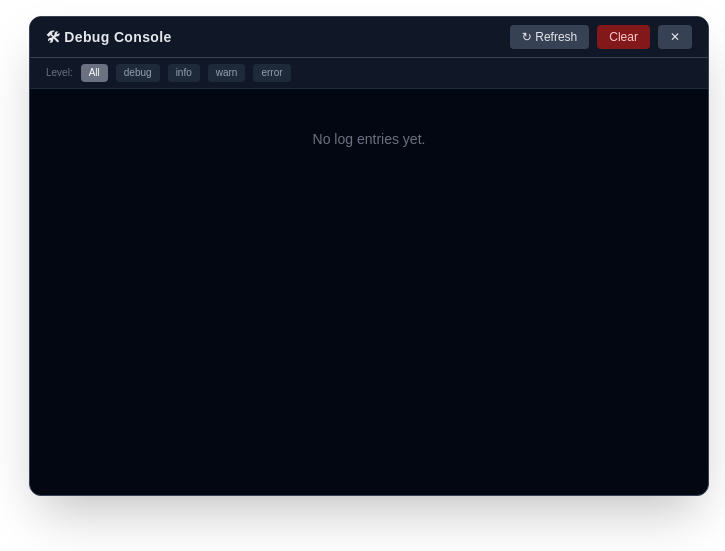
Test case: DebugPanel › re-fetches logs when Refresh is clicked
Expected: the text "No log entries yet." is shown, x1=313 y1=131 x2=425 y2=147
Click the button "↻ Refresh". click: click(550, 37)
box: x1=510 y1=25 x2=589 y2=49
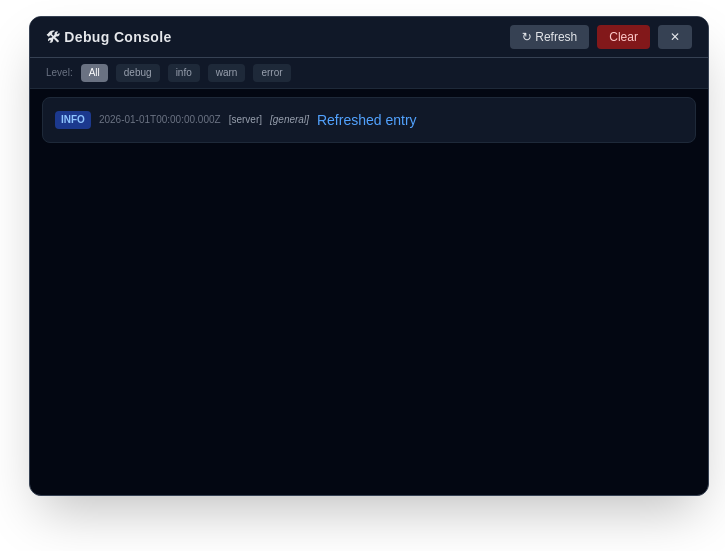
Expected: the text "Refreshed entry" is shown, x1=317 y1=112 x2=416 y2=128
